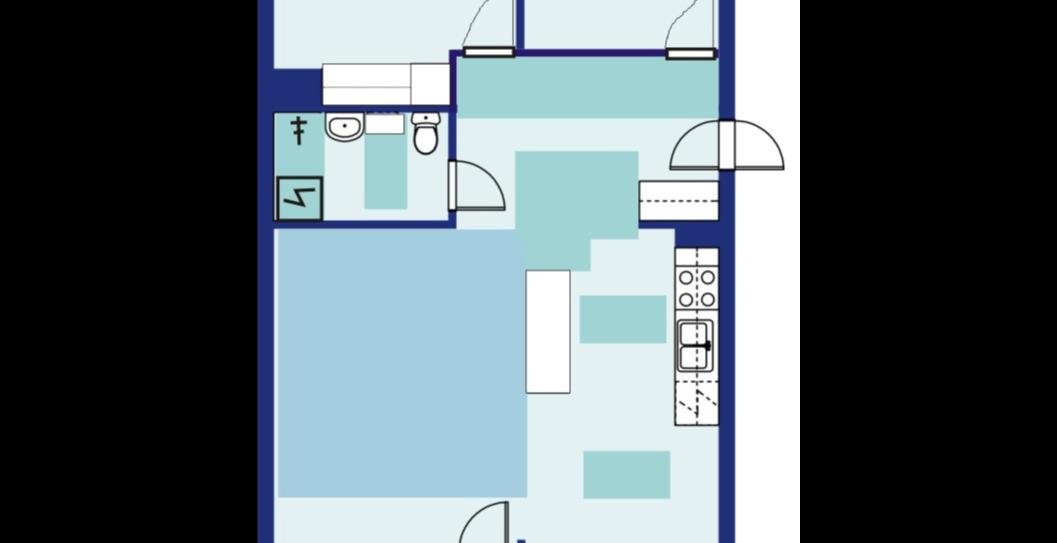bathroom: (320, 108, 448, 222)
door: (666, 116, 736, 174), (718, 116, 786, 171), (447, 158, 510, 216), (458, 0, 517, 57), (662, 0, 718, 60), (455, 498, 511, 543)
perimeter: (257, 0, 734, 543)
